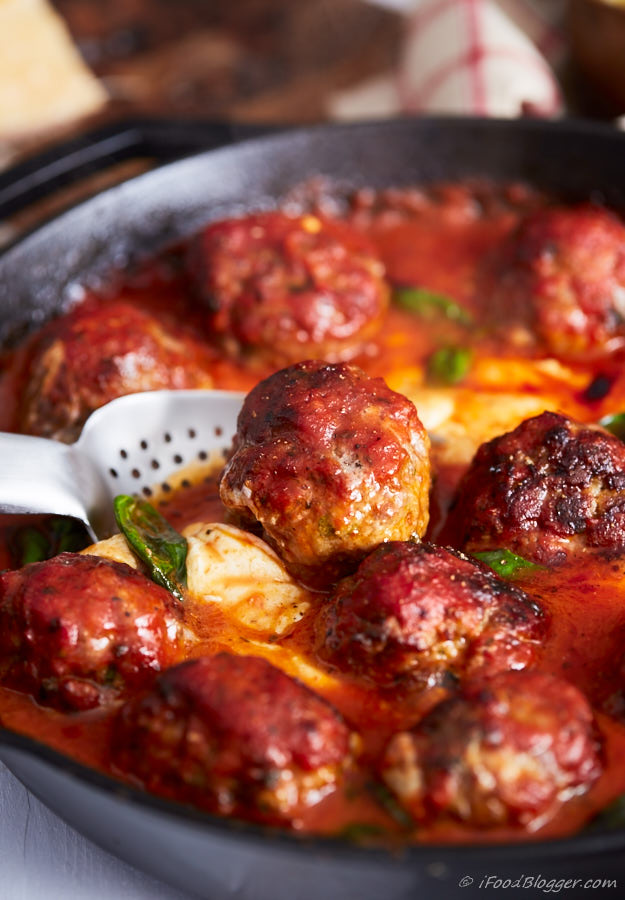meatballs: (26, 563, 325, 774), (325, 559, 570, 804), (218, 359, 431, 552), (162, 209, 392, 349), (471, 429, 615, 568)
